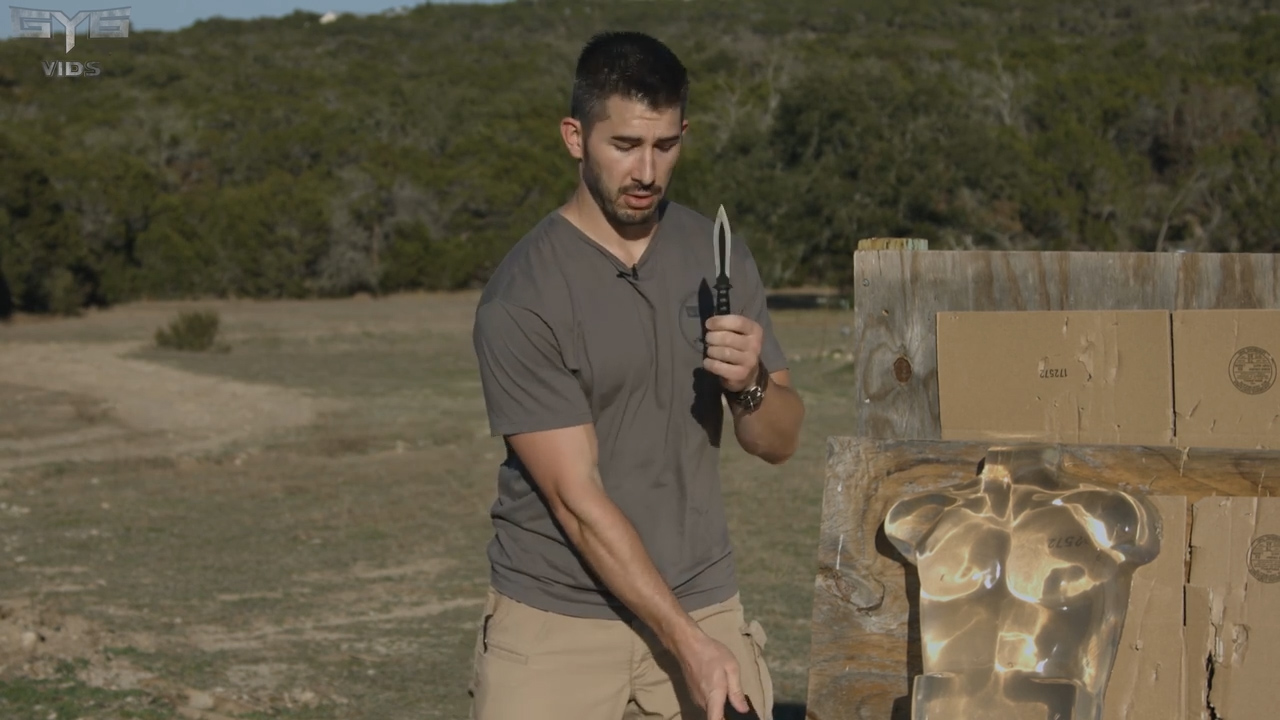knife: (697, 195, 765, 382)
